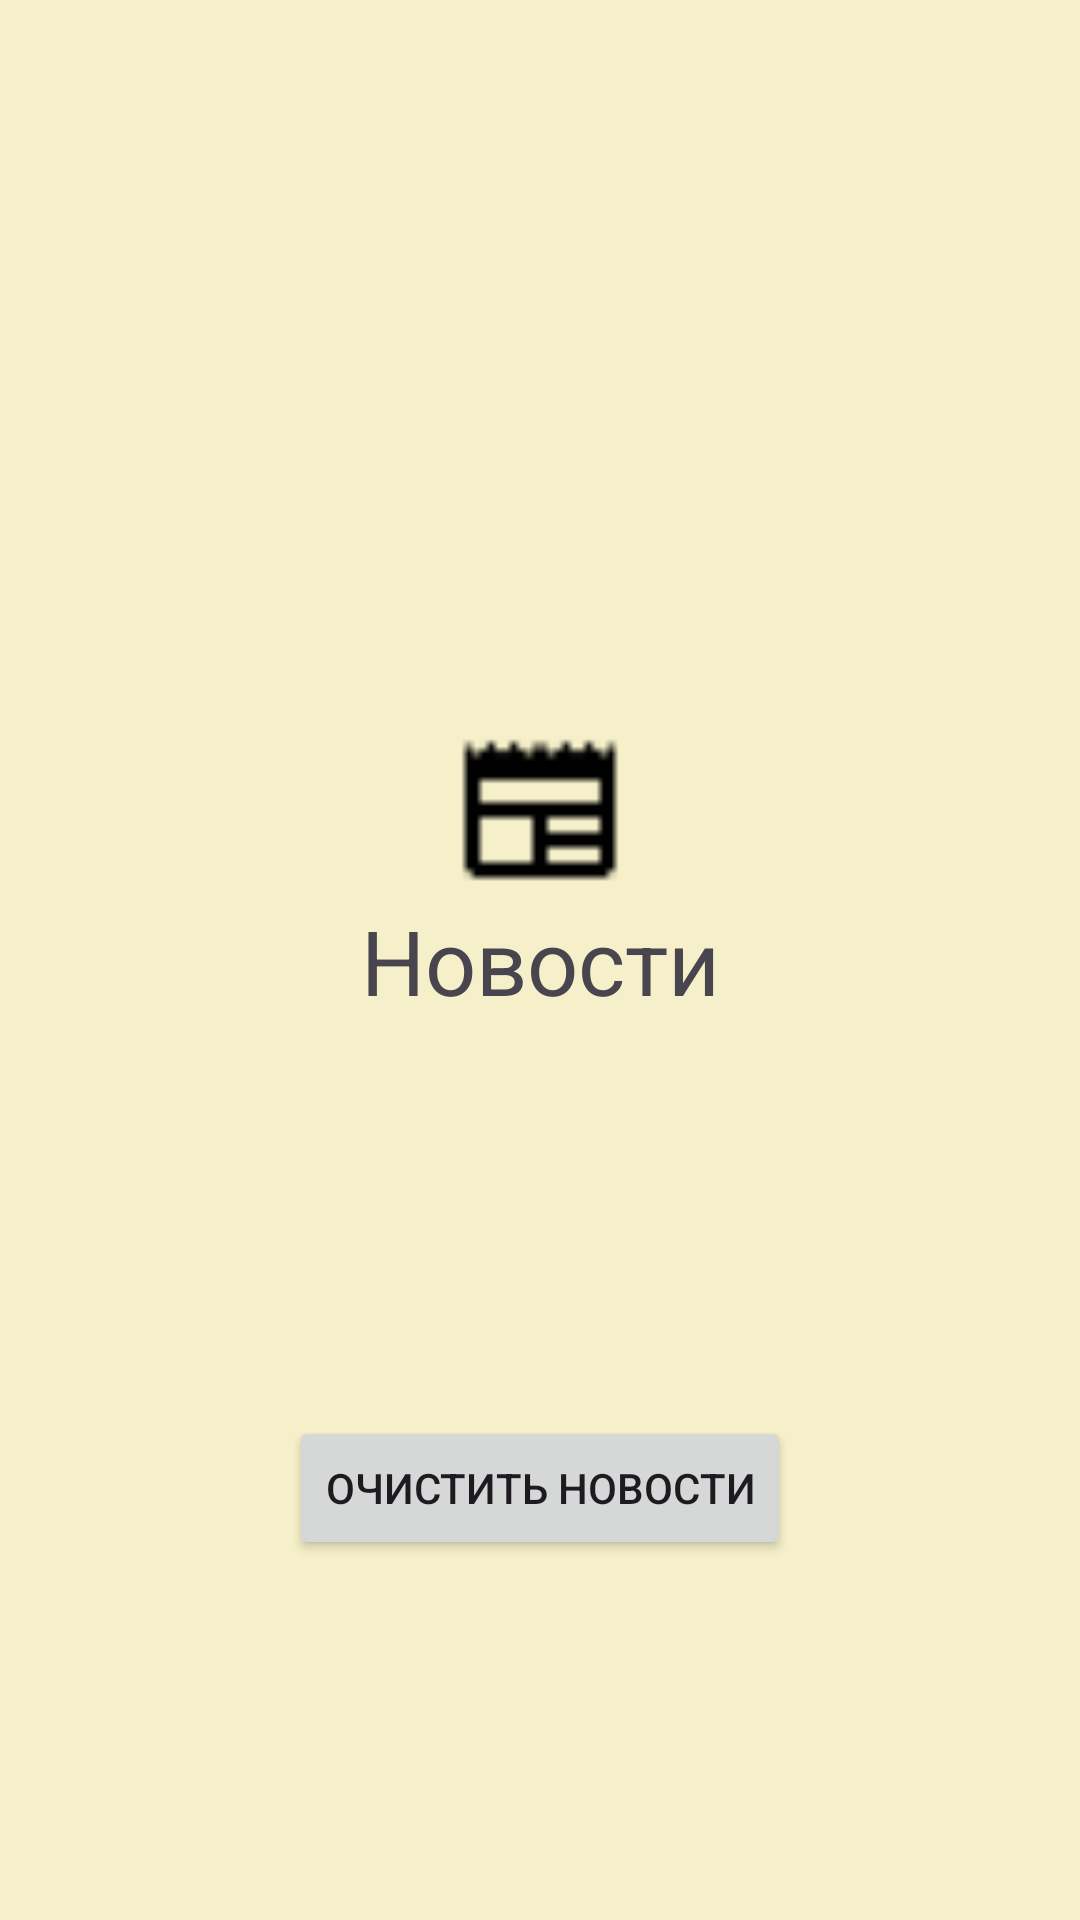

Point at icon controls on the screen. Image size 1080px x 1920px, points as (x,y).
newspaper: (540,810)
